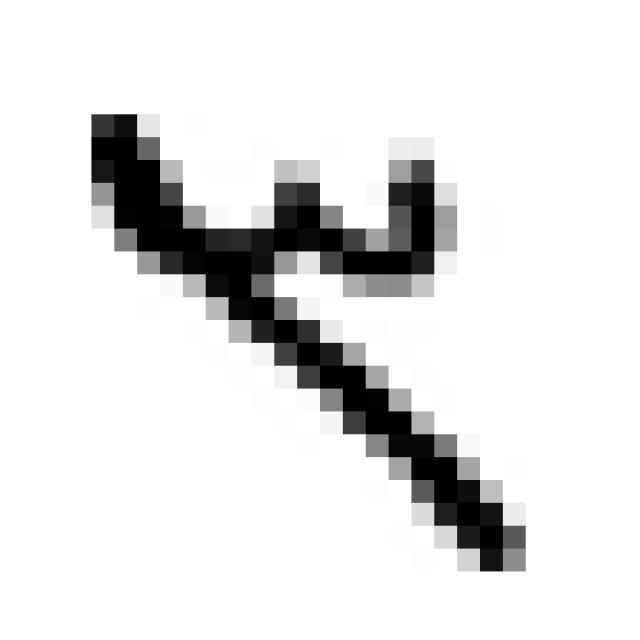3 -three-: (62, 73, 555, 592)
